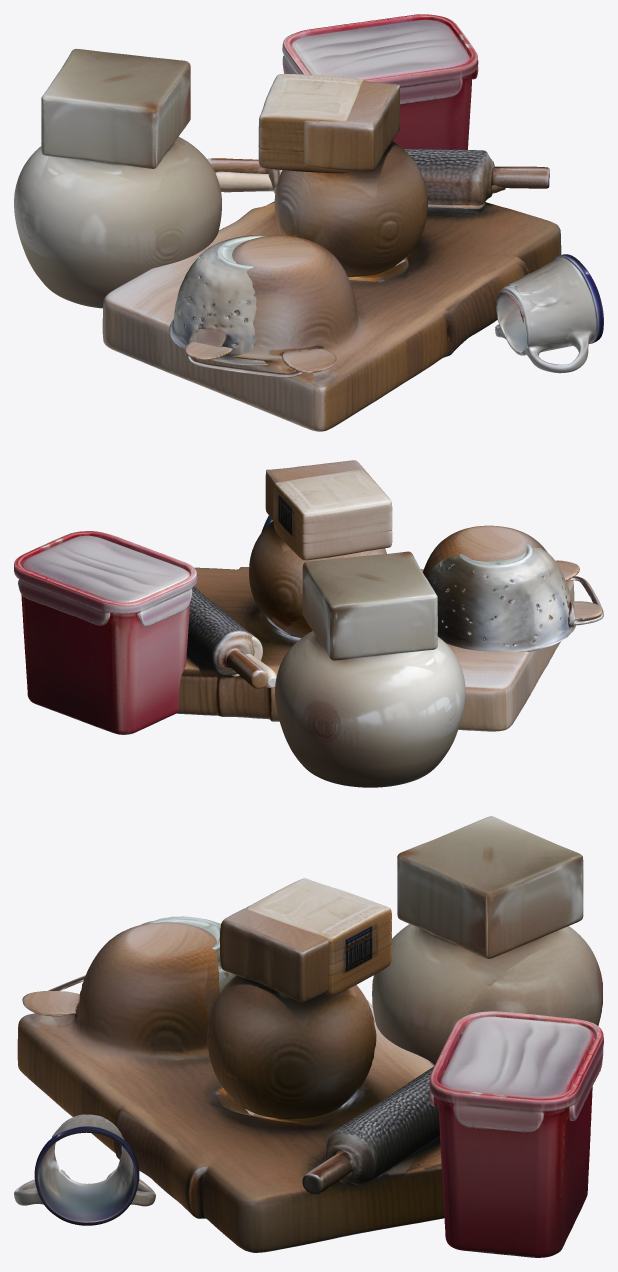
File: midi_textured.glb
The picture shows the model from 3 angles, top to bottom: view 1: azimuth 30°, elevation 25°; view 2: azimuth 150°, elevation 25°; view 3: azimuth 270°, elevation 25°; orthographic projection. The views are drawn at different scales.
Visible parts, largest first — view 1: geometry_0119d72ef218b, geometry_0d538962bb155, geometry_019abd1fdbb4f, geometry_02eba4cb9f499, geometry_047274f9a3287, geometry_0, geometry_02479ae5e02d5; view 2: geometry_0d538962bb155, geometry_019abd1fdbb4f, geometry_0119d72ef218b, geometry_047274f9a3287, geometry_0, geometry_02479ae5e02d5; view 3: geometry_0119d72ef218b, geometry_0d538962bb155, geometry_019abd1fdbb4f, geometry_0, geometry_02eba4cb9f499, geometry_047274f9a3287.
Part boxes in pixels (left/top/right/bottom): geometry_0119d72ef218b: left=102, top=81, right=561, bottom=431; geometry_0d538962bb155: left=14, top=48, right=221, bottom=308; geometry_019abd1fdbb4f: left=282, top=14, right=478, bottom=149; geometry_02eba4cb9f499: left=495, top=254, right=603, bottom=373; geometry_047274f9a3287: left=169, top=235, right=302, bottom=377; geometry_0: left=258, top=74, right=363, bottom=173; geometry_02479ae5e02d5: left=215, top=169, right=505, bottom=193; geometry_0d538962bb155: left=275, top=551, right=465, bottom=787; geometry_019abd1fdbb4f: left=14, top=531, right=197, bottom=734; geometry_0119d72ef218b: left=176, top=460, right=603, bottom=731; geometry_047274f9a3287: left=426, top=543, right=603, bottom=651; geometry_0: left=273, top=469, right=392, bottom=560; geometry_02479ae5e02d5: left=232, top=632, right=276, bottom=687; geometry_0119d72ef218b: left=17, top=905, right=444, bottom=1252; geometry_0d538962bb155: left=372, top=816, right=602, bottom=1064; geometry_019abd1fdbb4f: left=429, top=1011, right=603, bottom=1257; geometry_0: left=246, top=878, right=391, bottom=995; geometry_02eba4cb9f499: left=14, top=1114, right=155, bottom=1225; geometry_047274f9a3287: left=48, top=916, right=236, bottom=1014.
Size of the model in its own units: 1.86 by 0.831 by 1.9.
7 materials, 7 textured.
